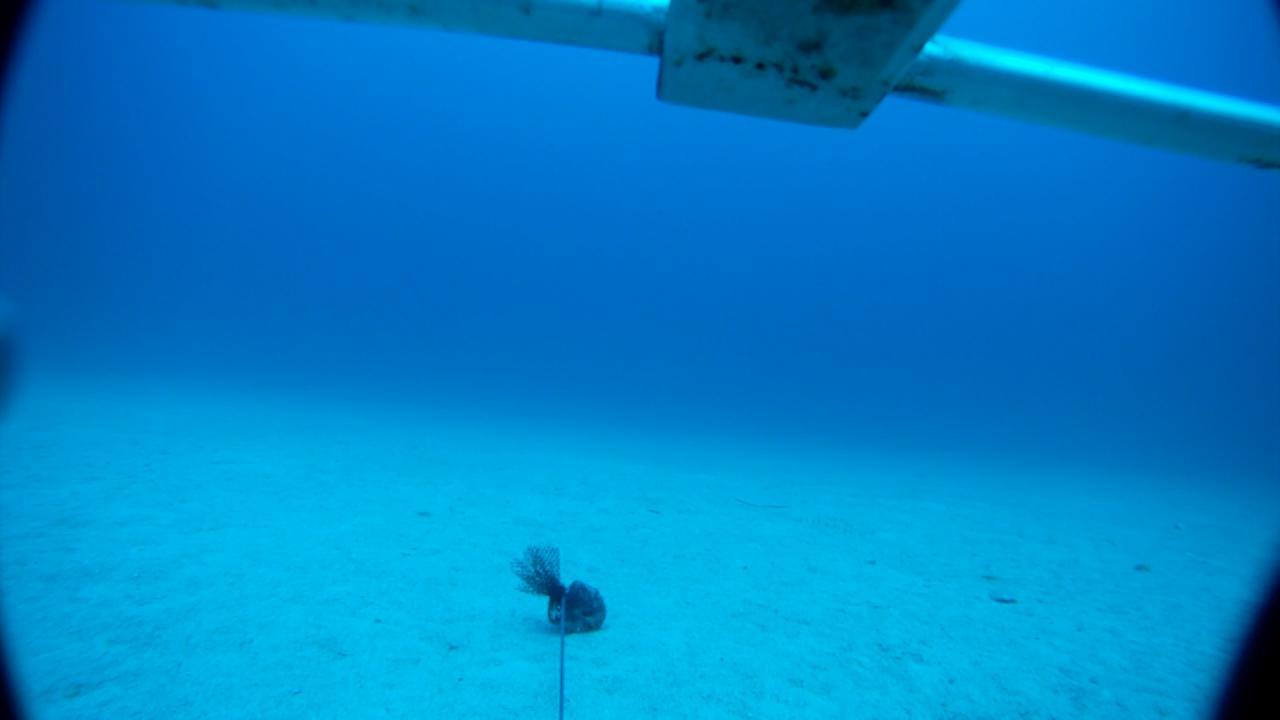bothus: (980, 586, 1024, 609)
